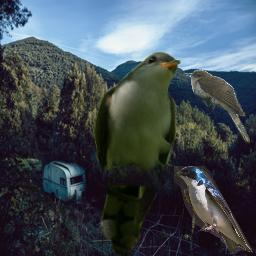Cuckoo: (93, 51, 182, 256), (185, 70, 250, 144)
Swallow: (174, 166, 253, 254)
